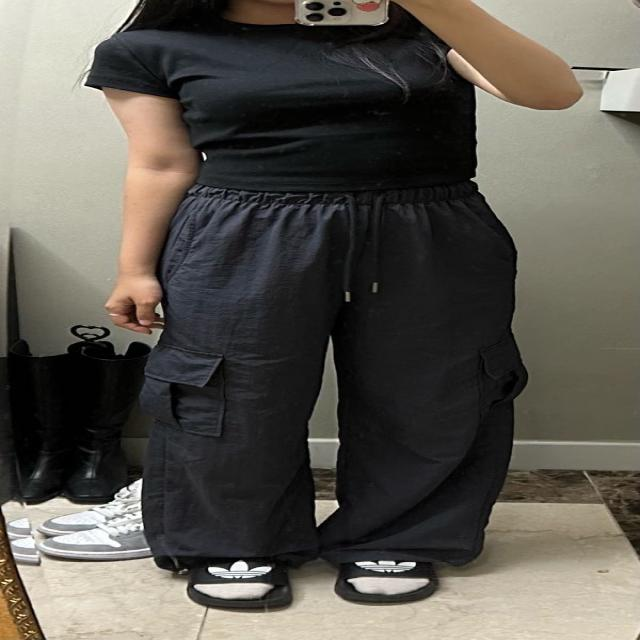cottonpants: (147, 187, 528, 572)
shortsleeve: (88, 16, 552, 192)
